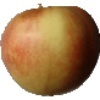apple: (3, 5, 100, 98)
